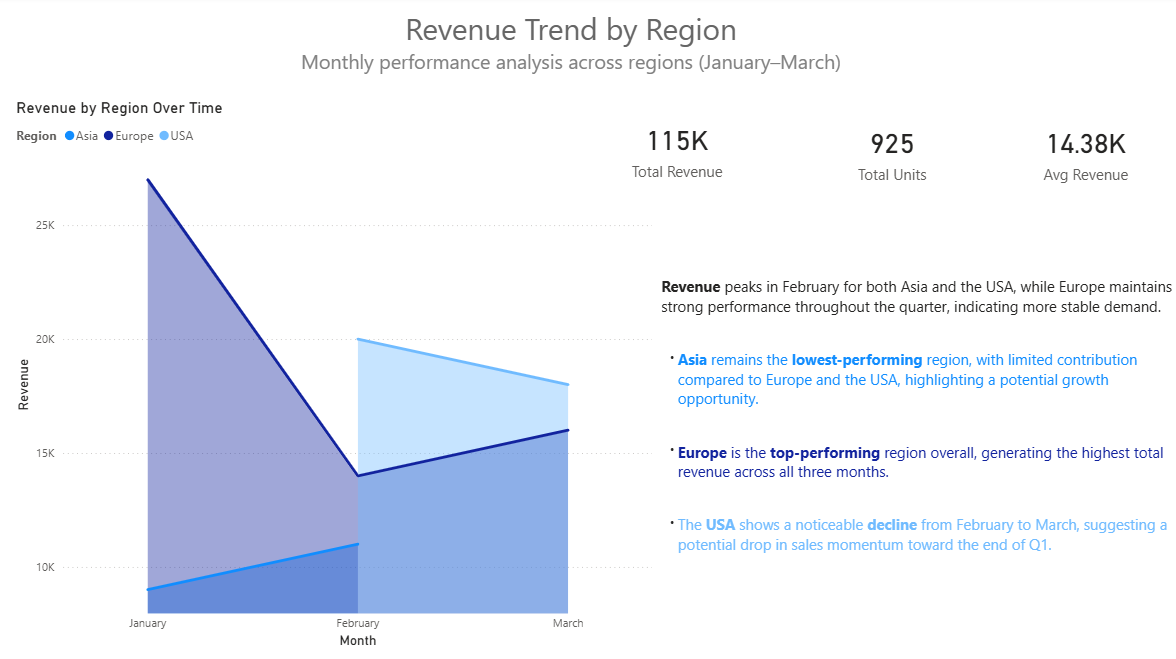

The page's visual inventory and layout, read from the dashboard file:
{"tool":"powerbi","page":{"name":"Page 1","canvas":[1280,720],"ordinal":0},"visuals":[{"type":"lineChart","title":"Revenue by Region Over Time","fields":{"Y":["pharma_sales.Total Revenue"],"Category":["pharma_sales.Month Hierarchy.Month"],"Series":["pharma_sales.Region"]},"box":[54,188,586,494],"z":0},{"type":"card","fields":{"Values":["pharma_sales.Total Revenue"]},"box":[0,36,474,150],"z":1},{"type":"card","fields":{"Values":["pharma_sales.Total Units"]},"box":[372,38,474,150],"z":2},{"type":"card","fields":{"Values":["pharma_sales.Avg Revenue"]},"box":[806,38,474,150],"z":3},{"type":"textbox","box":[714.3,298.6,404.4,342],"z":4}]}

Visuals, with their boxes in screenshot pixels (x1, y1, x2, y2), scaled from the page's 1280x720 canvas onto the 1176x659 screenshot:
"Revenue by Region Over Time" lineChart: [50, 172, 588, 624]
card - pharma_sales.Total Revenue: [0, 33, 435, 170]
card - pharma_sales.Total Units: [342, 35, 777, 172]
card - pharma_sales.Avg Revenue: [741, 35, 1175, 172]
textbox: [656, 273, 1028, 586]
